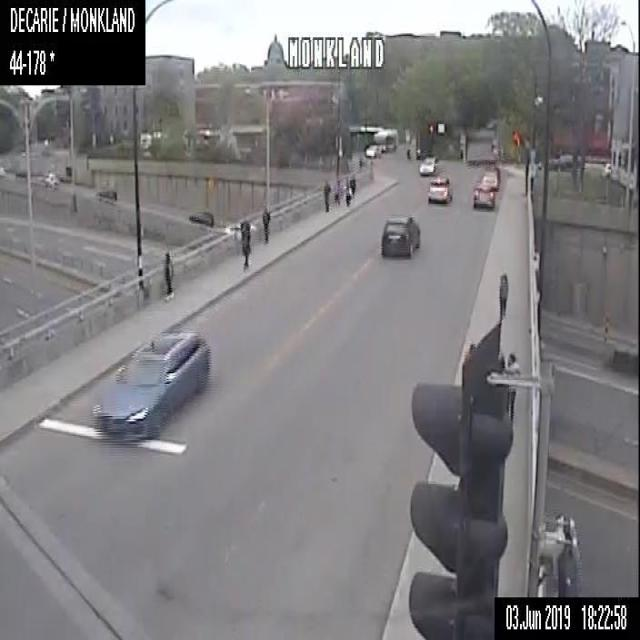bus: (373, 129, 398, 149)
pedestrian: (239, 218, 250, 266), (498, 273, 507, 319), (164, 251, 172, 297), (345, 171, 356, 204), (504, 352, 522, 372), (506, 385, 516, 416), (333, 176, 341, 210), (322, 180, 330, 213), (262, 208, 269, 241)
vehicle: (89, 328, 211, 439), (380, 212, 421, 256), (427, 174, 451, 204), (473, 183, 493, 209), (188, 209, 213, 227), (418, 155, 439, 175), (479, 169, 498, 189), (94, 188, 116, 200), (365, 142, 381, 157), (42, 170, 58, 182)
